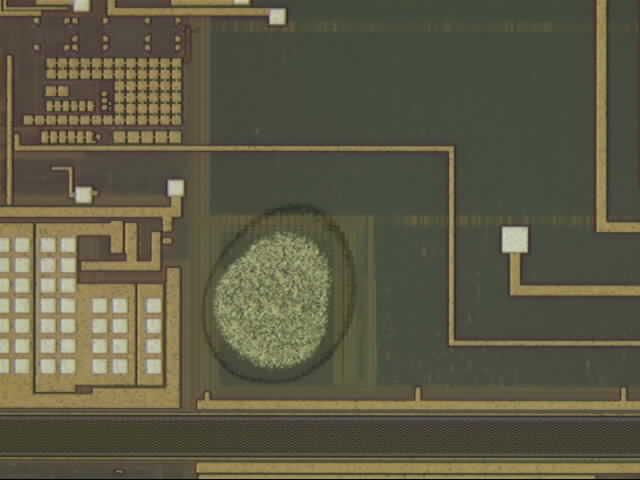BLOCK ETCH: (199, 202, 361, 390)
